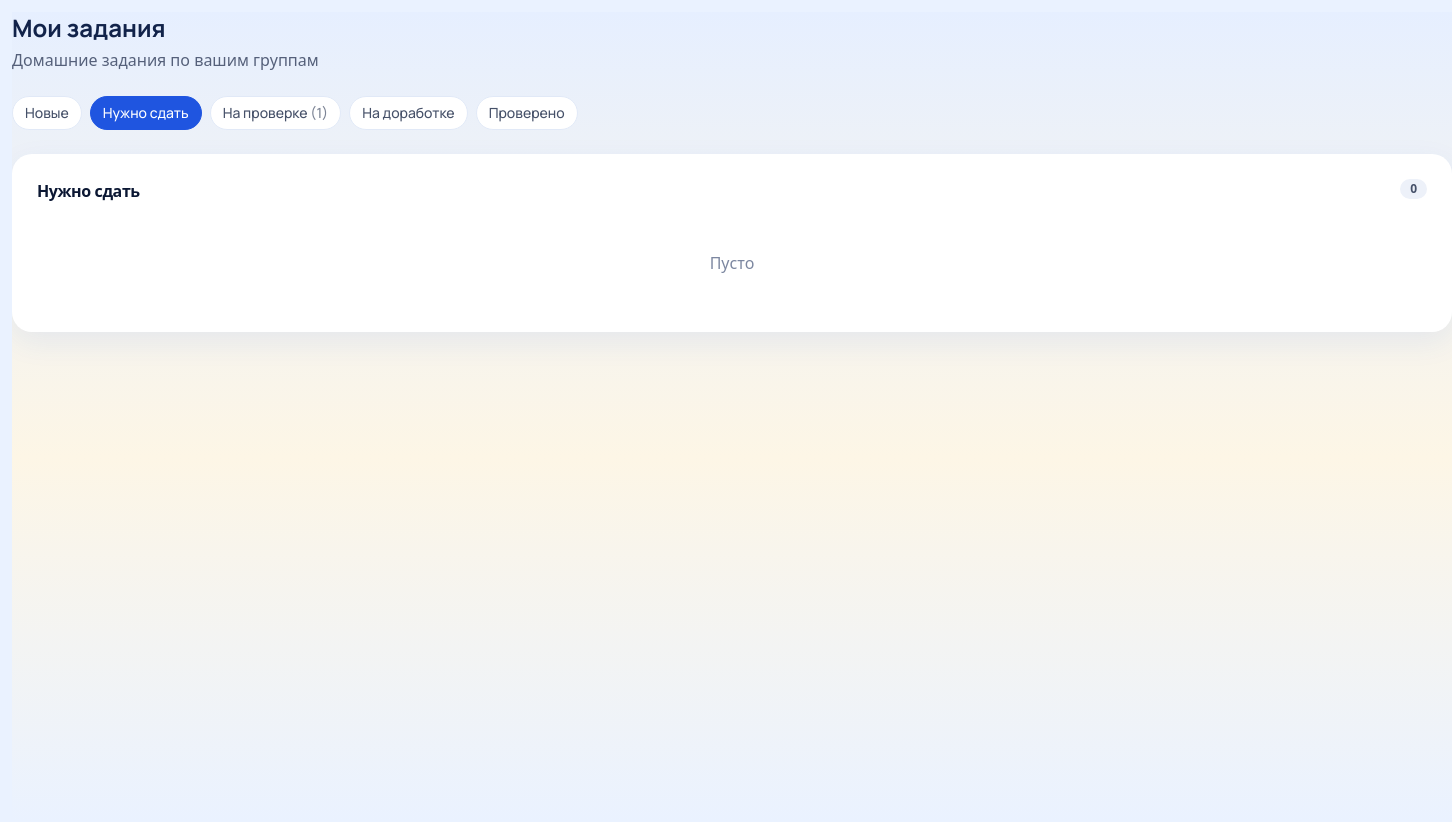
Test: MyHomeworksV2Page — категории (server-derived, проверяем что UI их корректно отображает по вкладкам) › under_review: карточка без кнопки «Сдать»/«Пересдать»
Click the button "На проверке (1)".
click(275, 113)  # box x1=210 y1=96 x2=341 y2=130
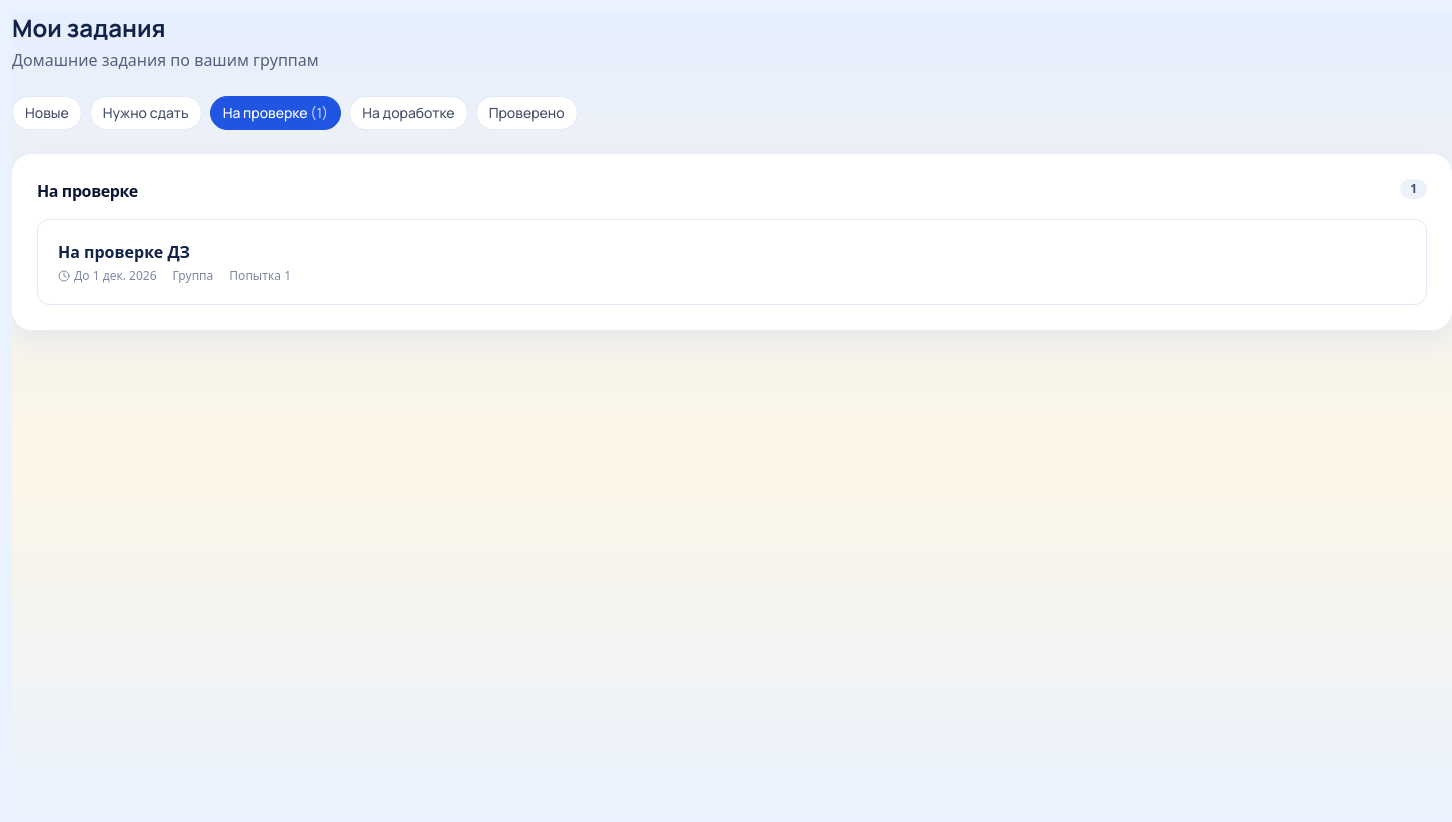
Expected: the heading "На проверке ДЗ" is shown, x1=58 y1=240 x2=190 y2=264
